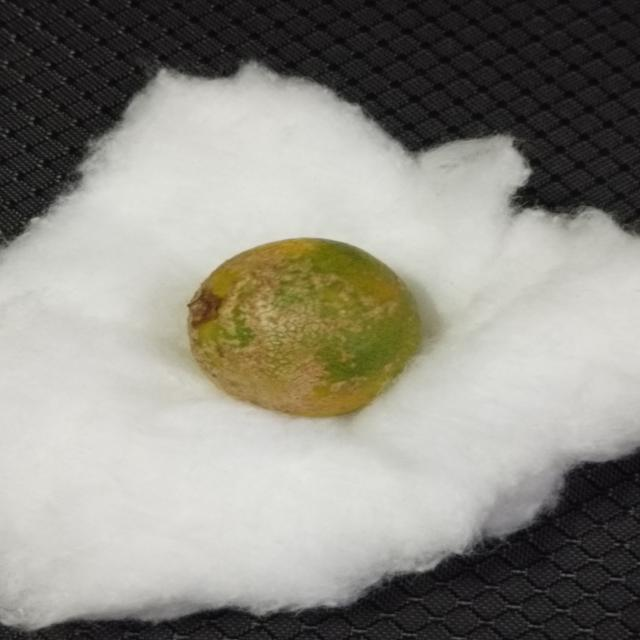thrips: (188, 232, 424, 420)
